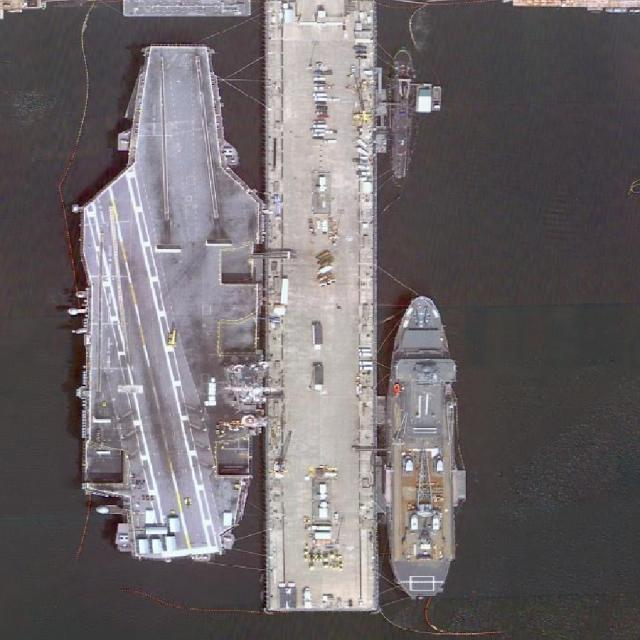Aircraft Carrier: (77, 44, 268, 559)
Auxiliary Ships: (387, 297, 454, 601)
Dock: (266, 6, 378, 611)
Other Warship: (391, 49, 415, 185)
